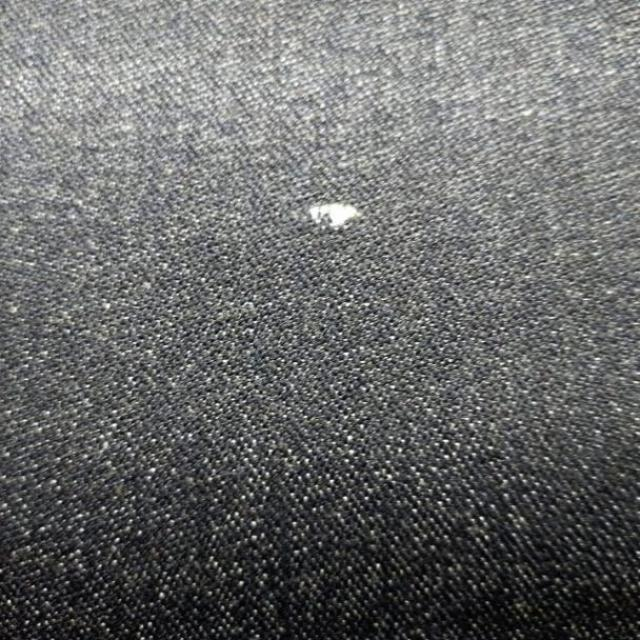Knot: (309, 202, 362, 229)
